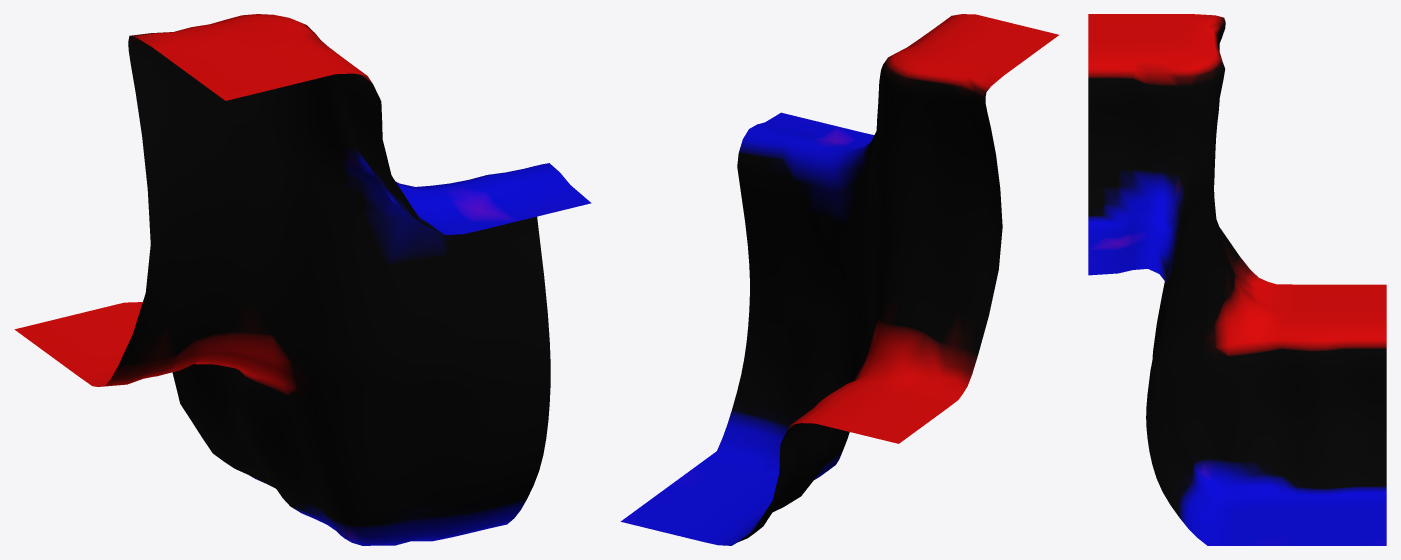
File: WaterFallCliff00A 3M.fbx
3 views of the same model, side by side, from view 1: azimuth 30°, elevation 25°; view 2: azimuth 150°, elevation 25°; view 3: azimuth 270°, elevation 25° (orthographic). The views are drawn at different scales.
Visible parts, largest first — view 1: WaterFallCliff00A 3M; view 2: WaterFallCliff00A 3M; view 3: WaterFallCliff00A 3M.
Part boxes in pixels (x1,y1,x2,y2): WaterFallCliff00A 3M: [14, 14, 591, 545]; WaterFallCliff00A 3M: [620, 14, 1058, 545]; WaterFallCliff00A 3M: [1088, 14, 1386, 545].
Size of the model in its own units: 2 by 3 by 2.
